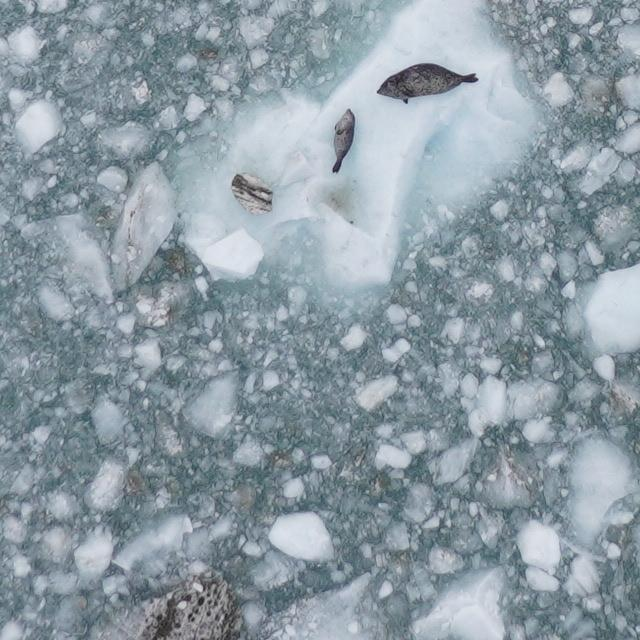seal: (371, 59, 482, 109), (328, 104, 359, 178)
